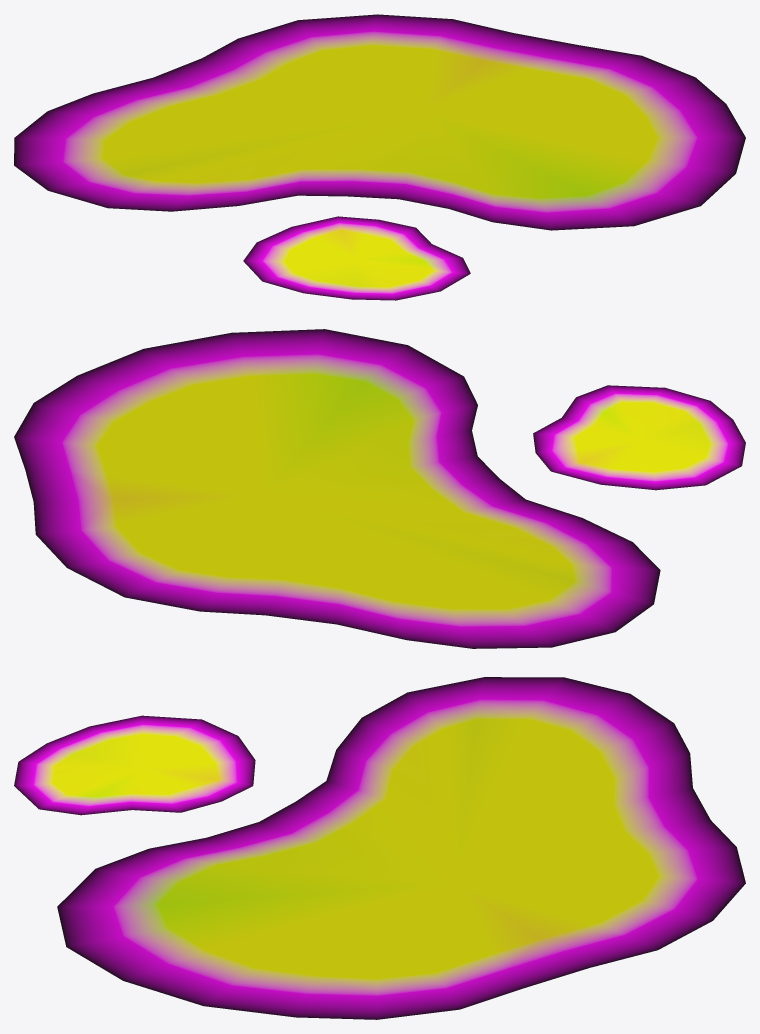
Rendered from water_01.FBX.
3 views of the same model, one above another, from view 1: azimuth 30°, elevation 25°; view 2: azimuth 150°, elevation 25°; view 3: azimuth 270°, elevation 25° (orthographic). The views are drawn at different scales.
Parts seen in each view (by area): view 1: water_01; view 2: water_01; view 3: water_01.
Part boxes in pixels (box(x1,y1,x2,y2)): water_01: box(14, 14, 745, 300); water_01: box(14, 329, 745, 648); water_01: box(14, 677, 745, 1019).
Bounding box in the file's own units: 2744 × 2476 × 0.000524.
